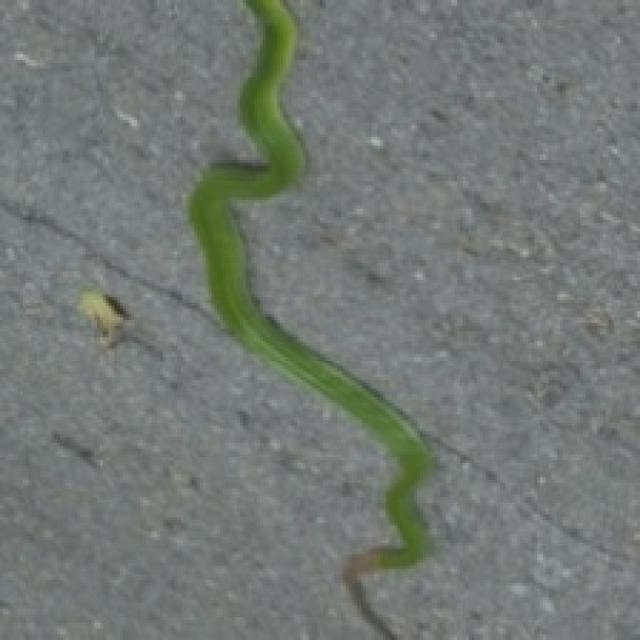red-tailed green ratsnake: (189, 0, 431, 637), (189, 0, 431, 566)
